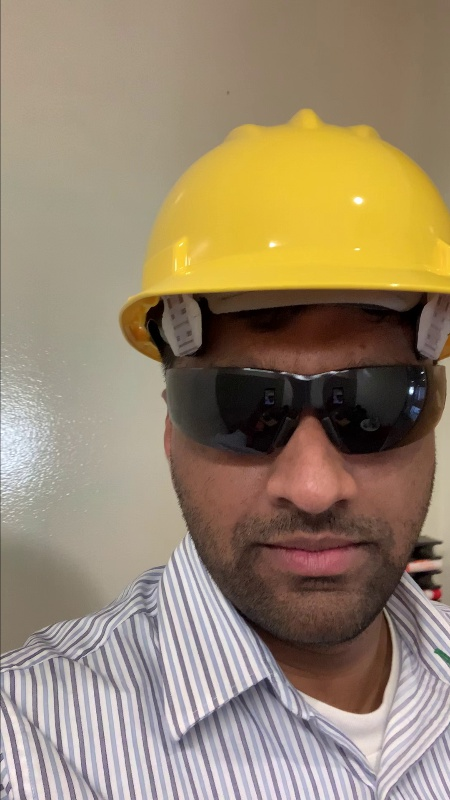glasses: (156, 358, 450, 463)
helmet: (113, 108, 450, 358)
